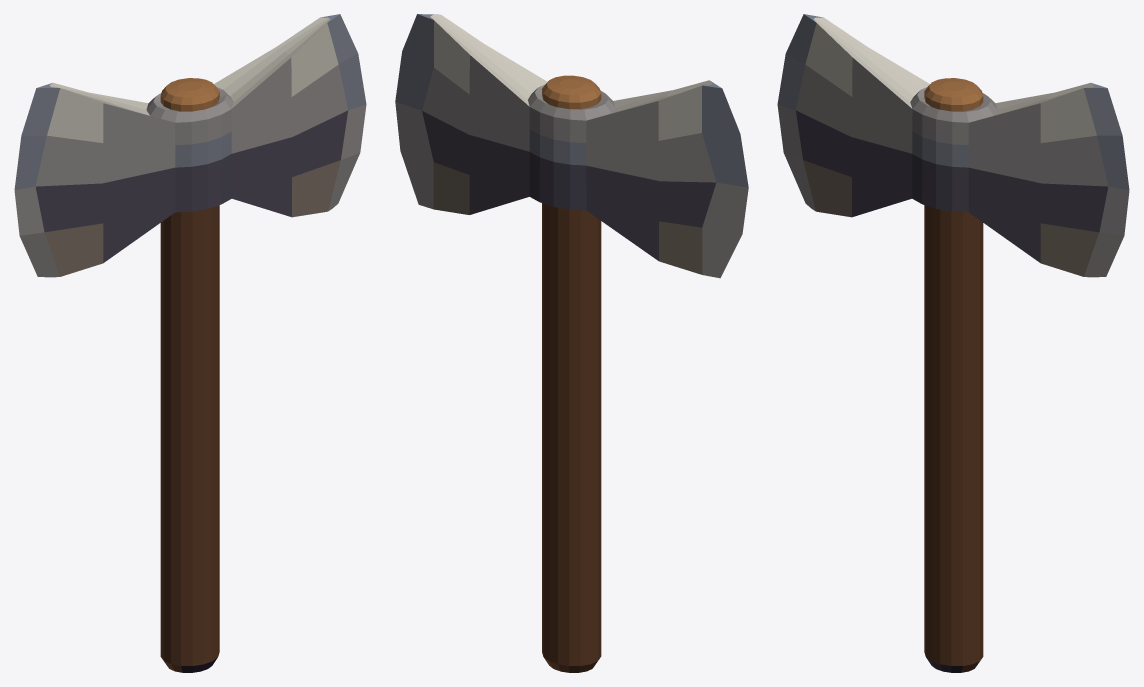
Rendered from metal_axe.glb.
The picture shows the model from 3 angles, left to right: view 1: azimuth 30°, elevation 25°; view 2: azimuth 150°, elevation 25°; view 3: azimuth 330°, elevation 25°; orthographic projection.
Visible parts, largest first — view 1: DoubleHeadedAxe; view 2: DoubleHeadedAxe; view 3: DoubleHeadedAxe.
Part boxes in pixels (x1,y1,x2,y2): DoubleHeadedAxe: (14,14,366,672); DoubleHeadedAxe: (395,14,748,672); DoubleHeadedAxe: (777,14,1129,672).
Bounding box in the file's own units: 0.389 × 0.65 × 0.0687.
